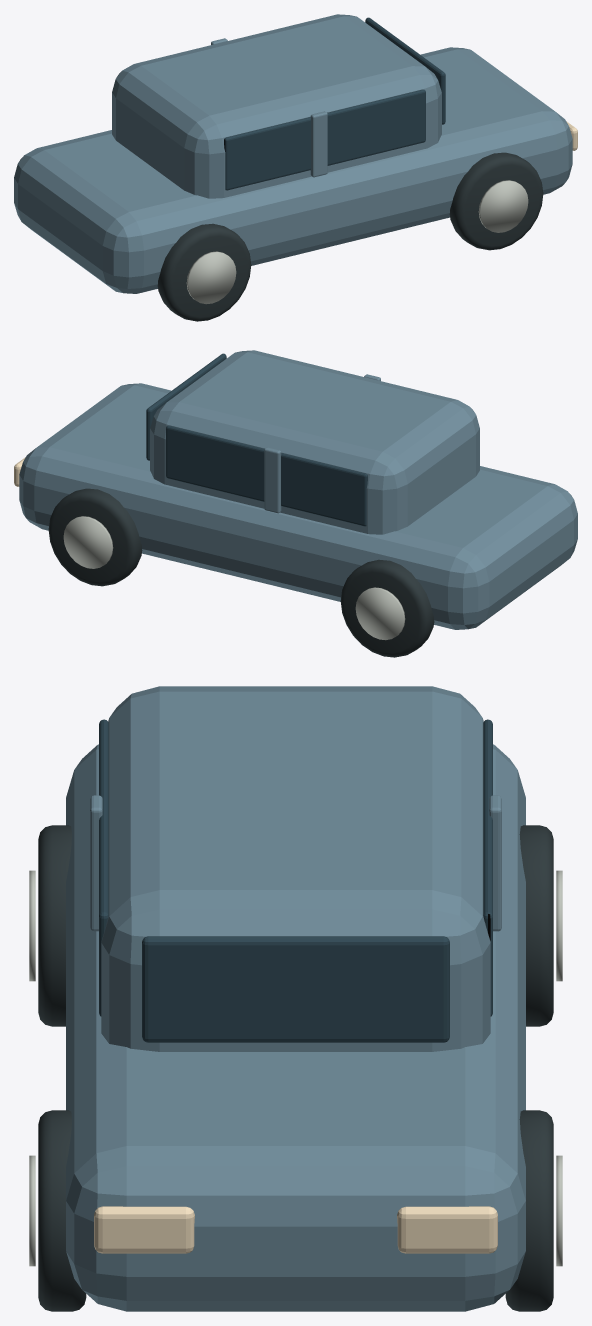
The model's file is parked_car.glb.
3 views of the same model, one above another, from view 1: azimuth 30°, elevation 25°; view 2: azimuth 150°, elevation 25°; view 3: azimuth 270°, elevation 25° (orthographic). The views are drawn at different scales.
Visible parts, largest first — view 1: parked_car_textured_mesh; view 2: parked_car_textured_mesh; view 3: parked_car_textured_mesh.
Boxes of the visible parts, left/top/right/bottom form: parked_car_textured_mesh: left=14, top=14, right=577, bottom=321; parked_car_textured_mesh: left=14, top=350, right=577, bottom=657; parked_car_textured_mesh: left=29, top=686, right=562, bottom=1311.
Size of the model in its own units: 4.29 by 1.55 by 2.11.
Materials: 1 (1 with a texture image).
